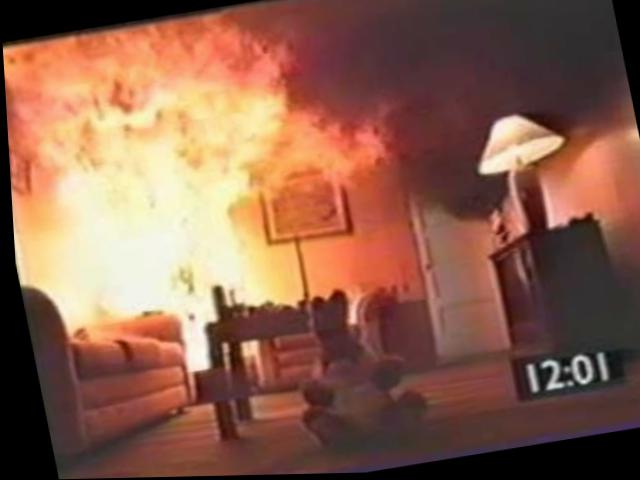fire: (1, 14, 340, 381)
